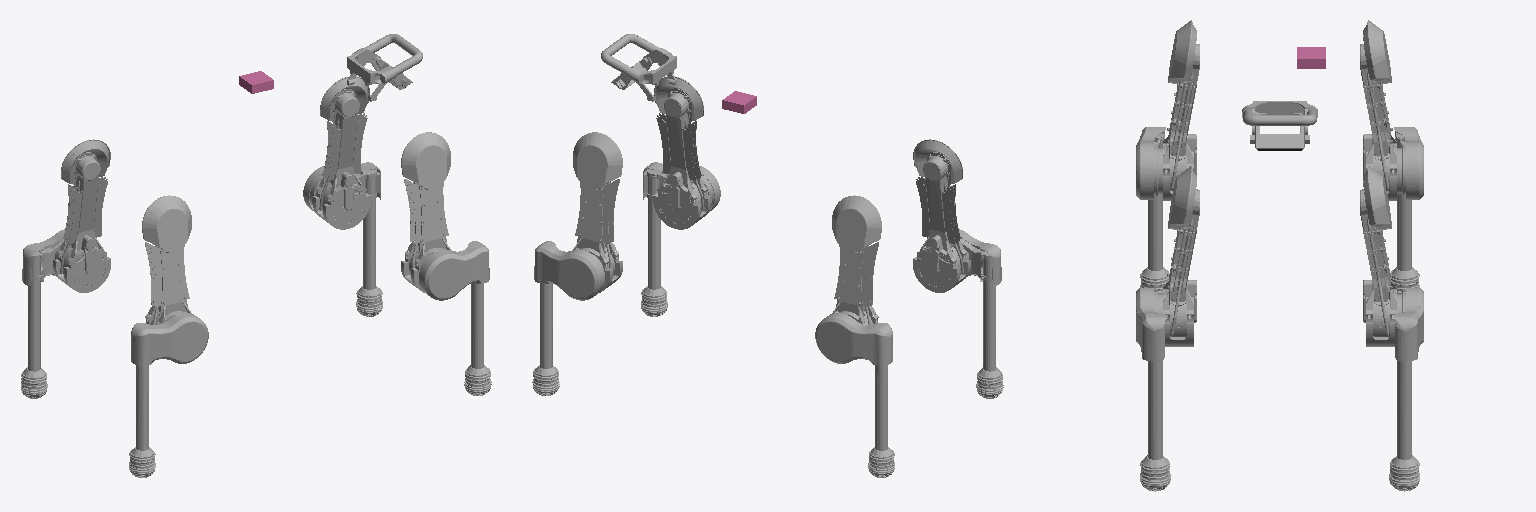
URDF robot description (anymal):
<?xml version="1.0" ?>
<robot name="anymal">

  <!--
    Material colors
  -->

  <!-- Basic colors -->
  <material name="black">
    <color rgba="0.0 0.0 0.0 1.0"/>
  </material>
  <material name="blue">
    <color rgba="0.0 0.0 0.8 1.0"/>
  </material>
  <material name="green">
    <color rgba="0.0 0.8 0.0 1.0"/>
  </material>
  <material name="grey">
    <color rgba="0.2 0.2 0.2 1.0"/>
  </material>
  <material name="light_grey">
    <color rgba="0.4 0.4 0.4 1.0"/>
  </material>
  <material name="red">
    <color rgba="0.8 0.0 0.0 1.0"/>
  </material>
  <material name="white">
    <color rgba="1.0 1.0 1.0 1.0"/>
  </material>

  <!-- Material for the visual primitives -->
  <material name="anymal_material">
    <color rgba="0.7 0.7 0.7 1.0"/>
  </material>

  <!--
    Base
  -->

  <!-- Base link -->
  <link name="base">
    <visual>
      <origin rpy="0 0 0" xyz="0 0 0"/>
      <geometry>
        <mesh filename="../meshes/anymal_base.dae" scale="0.001 0.001 0.001"/>
      </geometry>
      <material name="anymal_material"/>
    </visual>
    <!-- Main Body -->
    <collision>
      <origin rpy="0 0 0" xyz="0 0 0.08"/>
      <geometry>
        <box size="0.531 0.27 0.24"/>
      </geometry>
    </collision>
  </link>
  <!-- Fixed joint to add dummy inertia link -->
  <joint name="base_to_base_inertia" type="fixed">
    <parent link="base"/>
    <child link="base_inertia"/>
    <origin rpy="0 0 0" xyz="0 0 0"/>
  </joint>
  <!-- Dummy inertia link, because KDL cannot have inertia on the base link -->
  <link name="base_inertia">
    <inertial>
      <origin rpy="0 0 0" xyz="-0.001960558279 -0.001413217745 0.050207125344"/>
      <mass value="16.793507758"/>
      <inertia ixx="0.217391101503" ixy="-0.00132873239126" ixz="-0.00228200226173" iyy="0.639432546734" iyz="-0.00138078263145" izz="0.62414077654"/>
    </inertial>
  </link>

  <!--
    Left-Fore leg
  -->

  <!-- Thigh link -->
  <link name="LF_HIP">
    <visual>
      <origin rpy="0 0 0.0" xyz="0 0 0"/>
      <geometry>
        <mesh filename="../meshes/anymal_hip_l.dae" scale="0.001 0.001 0.001"/>
      </geometry>
      <material name="anymal_material"/>
    </visual>
    <inertial>
      <origin rpy="0 0 0" xyz="0.064516258147 -0.003787101702 -0.000152184388"/>
      <mass value="1.42462064"/>
      <inertia ixx="0.00243023349564" ixy="-1.53023971e-05" ixz="-2.1819095354e-05" iyy="0.00230257239103" iyz="2.6473021273e-05" izz="0.0019806759227"/>
    </inertial>
  </link>
  <!-- Hip joint -->
  <joint name="LF_HAA" type="revolute">
    <parent link="base"/>
    <child link="LF_HIP"/>
    <origin xyz="0.277 0.116 0.0"/>
    <axis xyz="1 0 0"/>
    <limit effort="80" lower="-6.28" upper="6.28" velocity="15"/>
    <dynamics damping="0.0" friction="0.0"/>
  </joint>

  <!-- Thigh link -->
  <link name="LF_THIGH">
    <visual>
      <origin rpy="0 0 0.0" xyz="0 0 0"/>
      <geometry>
        <mesh filename="../meshes/anymal_thigh_l.dae" scale="0.001 0.001 0.001"/>
      </geometry>
      <material name="anymal_material"/>
    </visual>
    <inertial>
      <origin rpy="0 0 0" xyz="-0.003897968082 0.054226618537 -0.214583373795"/>
      <mass value="1.634976467"/>
      <inertia ixx="0.0120367944369" ixy="6.762065206e-05" ixz="0.000287806340448" iyy="0.0120643637939" iyz="-0.00140610131218" izz="0.00249422574881"/>
    </inertial>
  </link>
  <!-- Thigh joint -->
  <joint name="LF_HFE" type="revolute">
    <parent link="LF_HIP"/>
    <child link="LF_THIGH"/>
    <origin xyz="0.0635                    0.041                    0.0"/>
    <axis xyz="0 1 0"/>
    <limit effort="80" lower="-6.28" upper="6.28" velocity="15"/>
    <dynamics damping="0.0" friction="0.0"/>
  </joint>

  <!-- Shank link -->
  <link name="LF_SHANK">
    <visual>
      <origin rpy="0 0 0.0" xyz="0 0 0"/>
      <geometry>
        <mesh filename="../meshes/anymal_shank_l.dae" scale="0.001 0.001 0.001"/>
      </geometry>
      <material name="anymal_material"/>
    </visual>
    <inertial>
      <origin rpy="0 0 0" xyz="0.030816858139 -0.004617229294 0.000893125713"/>
      <mass value="0.207204302"/>
      <inertia ixx="0.0002104880248" ixy="-5.6750980345e-05" ixz="1.0127699391e-05" iyy="0.000676270210023" iyz="-8.22869024e-07" izz="0.000545032674924"/>
    </inertial>
  </link>
  <!-- Shank joint -->
  <joint name="LF_KFE" type="revolute">
    <parent link="LF_THIGH"/>
    <child link="LF_SHANK"/>
    <origin xyz="0.0 0.109 -0.25"/>
    <axis xyz="0 1 0"/>
    <limit effort="80" lower="-6.28" upper="6.28" velocity="15"/>
    <dynamics damping="0.0" friction="0.0"/>
  </joint>
  <!-- Shank to Adapter joint -->
  <joint name="LF_SHANK_TO_ADAPTER" type="fixed">
    <parent link="LF_SHANK"/>
    <child link="LF_ADAPTER"/>
    <origin rpy="0.0 0.0 0.0" xyz="0.1 -0.02 0.0"/>
  </joint>

  <!-- Adapter link -->
  <link name="LF_ADAPTER">
    <visual>
      <origin rpy="0 0 0.0" xyz="0 0 0.032"/>
      <geometry>
        <mesh filename="../meshes/anymal_foot.dae" scale="0.001 0.001 0.001"/>
      </geometry>
      <material name="anymal_material"/>
    </visual>
    <inertial>
      <origin rpy="0 0 0" xyz="-8.66e-10 -1.472e-09 -0.244345749188"/>
      <mass value="0.140170767"/>
      <inertia ixx="0.00159938741862" ixy="-9.32e-13" ixz="1.039e-11" iyy="0.00159938741932" iyz="1.7563e-11" izz="5.4423177329e-05"/>
    </inertial>
  </link>
  <!-- Adapter to Foot joint -->
  <joint name="LF_ADAPTER_TO_FOOT" type="fixed">
    <parent link="LF_ADAPTER"/>
    <child link="LF_FOOT"/>
    <origin rpy="0.0 0.0 0.0" xyz="0.0 0.0 -0.32125"/>
  </joint>

  <!-- Foot link -->
  <link name="LF_FOOT">
    <collision>
      <origin xyz="0 0 0.02325"/>
      <geometry>
        <sphere radius="0.031"/>
      </geometry>
    </collision>
  </link>

  <!--
    Right-Fore leg
  -->

  <!-- Hip link -->
  <link name="RF_HIP">
    <visual>
      <origin rpy="0 0 0.0" xyz="0 0 0"/>
      <geometry>
        <mesh filename="../meshes/anymal_hip_r.dae" scale="0.001 0.001 0.001"/>
      </geometry>
      <material name="anymal_material"/>
    </visual>
    <inertial>
      <origin rpy="0 0 0" xyz="0.064516258147 0.003787101702 -0.000152184388"/>
      <mass value="1.42462064"/>
      <inertia ixx="0.00243023349564" ixy="1.53023971e-05" ixz="-2.1819095354e-05" iyy="0.00230257239103" iyz="-2.6473021273e-05" izz="0.0019806759227"/>
    </inertial>
  </link>
  <!-- Hip joint -->
  <joint name="RF_HAA" type="revolute">
    <parent link="base"/>
    <child link="RF_HIP"/>
    <origin xyz="0.277 -0.116 0.0"/>
    <axis xyz="1 0 0"/>
    <limit effort="80" lower="-6.28" upper="6.28" velocity="15"/>
    <dynamics damping="0.0" friction="0.0"/>
  </joint>

  <!-- Thigh link -->
  <link name="RF_THIGH">
    <visual>
      <origin rpy="0 0 0.0" xyz="0 0 0"/>
      <geometry>
        <mesh filename="../meshes/anymal_thigh_r.dae" scale="0.001 0.001 0.001"/>
      </geometry>
      <material name="anymal_material"/>
    </visual>
    <inertial>
      <origin rpy="0 0 0" xyz="-0.003897968082 -0.054226618537 -0.214583373795"/>
      <mass value="1.634976467"/>
      <inertia ixx="0.0120367944369" ixy="-6.762065206e-05" ixz="0.000287806340448" iyy="0.0120643637939" iyz="0.00140610131218" izz="0.00249422574881"/>
    </inertial>
  </link>
  <!-- Thigh joint -->
  <joint name="RF_HFE" type="revolute">
    <parent link="RF_HIP"/>
    <child link="RF_THIGH"/>
    <origin xyz="0.0635                    -0.041                    0.0"/>
    <axis xyz="0 1 0"/>
    <limit effort="80" lower="-6.28" upper="6.28" velocity="15"/>
    <dynamics damping="0.0" friction="0.0"/>
  </joint>

  <!-- Shank link -->
  <link name="RF_SHANK">
    <visual>
      <origin rpy="0 0 0.0" xyz="0 0 0"/>
      <geometry>
        <mesh filename="../meshes/anymal_shank_r.dae" scale="0.001 0.001 0.001"/>
      </geometry>
      <material name="anymal_material"/>
    </visual>
    <inertial>
      <origin rpy="0 0 0" xyz="0.030816858139 0.004617229294 0.000893125713"/>
      <mass value="0.207204302"/>
      <inertia ixx="0.0002104880248" ixy="5.6750980345e-05" ixz="1.0127699391e-05" iyy="0.000676270210023" iyz="8.22869024e-07" izz="0.000545032674924"/>
    </inertial>
  </link>
  <!-- Shank joint -->
  <joint name="RF_KFE" type="revolute">
    <parent link="RF_THIGH"/>
    <child link="RF_SHANK"/>
    <origin xyz="0.0 -0.109 -0.25"/>
    <axis xyz="0 1 0"/>
    <limit effort="80" lower="-6.28" upper="6.28" velocity="15"/>
    <dynamics damping="0.0" friction="0.0"/>
  </joint>
  <!-- Shank to Adapter joint -->
  <joint name="RF_SHANK_TO_ADAPTER" type="fixed">
    <parent link="RF_SHANK"/>
    <child link="RF_ADAPTER"/>
    <origin rpy="-0.0 0.0 -0.0" xyz="0.1 0.02 0.0"/>
  </joint>

  <!-- Adapter link -->
  <link name="RF_ADAPTER">
    <visual>
      <origin rpy="0 0 0.0" xyz="0 0 0.032"/>
      <geometry>
        <mesh filename="../meshes/anymal_foot.dae" scale="0.001 0.001 0.001"/>
      </geometry>
      <material name="anymal_material"/>
    </visual>
    <inertial>
      <origin rpy="0 0 0" xyz="-8.66e-10 -1.472e-09 -0.244345749188"/>
      <mass value="0.140170767"/>
      <inertia ixx="0.00159938741862" ixy="-9.32e-13" ixz="1.039e-11" iyy="0.00159938741932" iyz="1.7563e-11" izz="5.4423177329e-05"/>
    </inertial>
  </link>
  <!-- Adapter to Foot joint -->
  <joint name="RF_ADAPTER_TO_FOOT" type="fixed">
    <parent link="RF_ADAPTER"/>
    <child link="RF_FOOT"/>
    <origin rpy="-0.0 0.0 -0.0" xyz="0.0 -0.0 -0.32125"/>
  </joint>

  <!-- Foot link -->
  <link name="RF_FOOT">
    <collision>
      <origin xyz="0 0 0.02325"/>
      <geometry>
        <sphere radius="0.031"/>
      </geometry>
    </collision>
  </link>


  <!--
    Left-Hind leg
  -->

  <!-- Hip link -->
  <link name="LH_HIP">
    <visual>
      <origin rpy="0 0 -3.14159265359" xyz="0 0 0"/>
      <geometry>
        <mesh filename="../meshes/anymal_hip_r.dae" scale="0.001 0.001 0.001"/>
      </geometry>
      <material name="anymal_material"/>
    </visual>
    <inertial>
      <origin rpy="0 0 0" xyz="-0.064516258147 -0.003787101702 -0.000152184388"/>
      <mass value="1.42462064"/>
      <inertia ixx="0.00243023349564" ixy="1.53023971e-05" ixz="2.1819095354e-05" iyy="0.00230257239103" iyz="2.6473021273e-05" izz="0.0019806759227"/>
    </inertial>
  </link>
  <!-- Hip joint -->
  <joint name="LH_HAA" type="revolute">
    <parent link="base"/>
    <child link="LH_HIP"/>
    <origin xyz="-0.277 0.116 0.0"/>
    <axis xyz="1 0 0"/>
    <limit effort="80" lower="-6.28" upper="6.28" velocity="15"/>
    <dynamics damping="0.0" friction="0.0"/>
  </joint>

  <!-- Thigh link -->
  <link name="LH_THIGH">
    <visual>
      <origin rpy="0 0 -3.14159265359" xyz="0 0 0"/>
      <geometry>
        <mesh filename="../meshes/anymal_thigh_r.dae" scale="0.001 0.001 0.001"/>
      </geometry>
      <material name="anymal_material"/>
    </visual>
    <inertial>
      <origin rpy="0 0 0" xyz="0.003897968082 0.054226618537 -0.214583373795"/>
      <mass value="1.634976467"/>
      <inertia ixx="0.0120367944369" ixy="-6.762065206e-05" ixz="-0.000287806340448" iyy="0.0120643637939" iyz="-0.00140610131218" izz="0.00249422574881"/>
    </inertial>
  </link>
  <!-- Thigh joint -->
  <joint name="LH_HFE" type="revolute">
    <parent link="LH_HIP"/>
    <child link="LH_THIGH"/>
    <origin xyz="-0.0635                    0.041                    0.0"/>
    <axis xyz="0 1 0"/>
    <limit effort="80" lower="-6.28" upper="6.28" velocity="15"/>
    <dynamics damping="0.0" friction="0.0"/>
  </joint>

  <!-- Shank link -->
  <link name="LH_SHANK">
    <visual>
      <origin rpy="0 0 -3.14159265359" xyz="0 0 0"/>
      <geometry>
        <mesh filename="../meshes/anymal_shank_r.dae" scale="0.001 0.001 0.001"/>
      </geometry>
      <material name="anymal_material"/>
    </visual>
    <inertial>
      <origin rpy="0 0 0" xyz="-0.030816858139 -0.004617229294 0.000893125713"/>
      <mass value="0.207204302"/>
      <inertia ixx="0.0002104880248" ixy="5.6750980345e-05" ixz="-1.0127699391e-05" iyy="0.000676270210023" iyz="-8.22869024e-07" izz="0.000545032674924"/>
    </inertial>
  </link>
  <!-- Shank joint -->
  <joint name="LH_KFE" type="revolute">
    <parent link="LH_THIGH"/>
    <child link="LH_SHANK"/>
    <origin xyz="-0.0 0.109 -0.25"/>
    <axis xyz="0 1 0"/>
    <limit effort="80" lower="-6.28" upper="6.28" velocity="15"/>
    <dynamics damping="0.0" friction="0.0"/>
  </joint>
  <!-- Shank to Adapter joint -->
  <joint name="LH_SHANK_TO_ADAPTER" type="fixed">
    <parent link="LH_SHANK"/>
    <child link="LH_ADAPTER"/>
    <origin rpy="0.0 -0.0 -0.0" xyz="-0.1 -0.02 0.0"/>
  </joint>

  <!-- Adapter link -->
  <link name="LH_ADAPTER">
    <visual>
      <origin rpy="0 0 -3.14159265359" xyz="0 0 0.032"/>
      <geometry>
        <mesh filename="../meshes/anymal_foot.dae" scale="0.001 0.001 0.001"/>
      </geometry>
      <material name="anymal_material"/>
    </visual>
    <inertial>
      <origin rpy="0 0 0" xyz="-8.66e-10 -1.472e-09 -0.244345749188"/>
      <mass value="0.140170767"/>
      <inertia ixx="0.00159938741862" ixy="-9.32e-13" ixz="1.039e-11" iyy="0.00159938741932" iyz="1.7563e-11" izz="5.4423177329e-05"/>
    </inertial>
  </link>
  <!-- Adapter to Foot joint -->
  <joint name="LH_ADAPTER_TO_FOOT" type="fixed">
    <parent link="LH_ADAPTER"/>
    <child link="LH_FOOT"/>
    <origin rpy="0.0 -0.0 -0.0" xyz="-0.0 0.0 -0.32125"/>
  </joint>

  <!-- Foot link -->
  <link name="LH_FOOT">
    <collision>
      <origin xyz="0 0 0.02325"/>
      <geometry>
        <sphere radius="0.031"/>
      </geometry>
    </collision>
  </link>

  <!--
    Right-Hind leg
  -->

  <!-- Hip link -->
  <link name="RH_HIP">
    <visual>
      <origin rpy="0 0 -3.14159265359" xyz="0 0 0"/>
      <geometry>
        <mesh filename="../meshes/anymal_hip_l.dae" scale="0.001 0.001 0.001"/>
      </geometry>
      <material name="anymal_material"/>
    </visual>
    <inertial>
      <origin rpy="0 0 0" xyz="-0.064516258147 0.003787101702 -0.000152184388"/>
      <mass value="1.42462064"/>
      <inertia ixx="0.00243023349564" ixy="-1.53023971e-05" ixz="2.1819095354e-05" iyy="0.00230257239103" iyz="-2.6473021273e-05" izz="0.0019806759227"/>
    </inertial>
  </link>
  <!-- Hip joint -->
  <joint name="RH_HAA" type="revolute">
    <parent link="base"/>
    <child link="RH_HIP"/>
    <origin xyz="-0.277 -0.116 0.0"/>
    <axis xyz="1 0 0"/>
    <limit effort="80" lower="-6.28" upper="6.28" velocity="15"/>
    <dynamics damping="0.0" friction="0.0"/>
  </joint>

  <!-- Thigh link -->
  <link name="RH_THIGH">
    <visual>
      <origin rpy="0 0 -3.14159265359" xyz="0 0 0"/>
      <geometry>
        <mesh filename="../meshes/anymal_thigh_l.dae" scale="0.001 0.001 0.001"/>
      </geometry>
      <material name="anymal_material"/>
    </visual>
    <inertial>
      <origin rpy="0 0 0" xyz="0.003897968082 -0.054226618537 -0.214583373795"/>
      <mass value="1.634976467"/>
      <inertia ixx="0.0120367944369" ixy="6.762065206e-05" ixz="-0.000287806340448" iyy="0.0120643637939" iyz="0.00140610131218" izz="0.00249422574881"/>
    </inertial>
  </link>
  <!-- Thigh joint -->
  <joint name="RH_HFE" type="revolute">
    <parent link="RH_HIP"/>
    <child link="RH_THIGH"/>
    <origin xyz="-0.0635                    -0.041                    0.0"/>
    <axis xyz="0 1 0"/>
    <limit effort="80" lower="-6.28" upper="6.28" velocity="15"/>
    <dynamics damping="0.0" friction="0.0"/>
  </joint>

  <!-- Shank link -->
  <link name="RH_SHANK">
    <visual>
      <origin rpy="0 0 -3.14159265359" xyz="0 0 0"/>
      <geometry>
        <mesh filename="../meshes/anymal_shank_l.dae" scale="0.001 0.001 0.001"/>
      </geometry>
      <material name="anymal_material"/>
    </visual>
    <inertial>
      <origin rpy="0 0 0" xyz="-0.030816858139 0.004617229294 0.000893125713"/>
      <mass value="0.207204302"/>
      <inertia ixx="0.0002104880248" ixy="-5.6750980345e-05" ixz="-1.0127699391e-05" iyy="0.000676270210023" iyz="8.22869024e-07" izz="0.000545032674924"/>
    </inertial>
  </link>
  <!-- Shank joint -->
  <joint name="RH_KFE" type="revolute">
    <parent link="RH_THIGH"/>
    <child link="RH_SHANK"/>
    <origin xyz="-0.0 -0.109 -0.25"/>
    <axis xyz="0 1 0"/>
    <limit effort="80" lower="-6.28" upper="6.28" velocity="15"/>
    <dynamics damping="0.0" friction="0.0"/>
  </joint>
  <!-- Shank to Adapter joint -->
  <joint name="RH_SHANK_TO_ADAPTER" type="fixed">
    <parent link="RH_SHANK"/>
    <child link="RH_ADAPTER"/>
    <origin rpy="-0.0 -0.0 0.0" xyz="-0.1 0.02 0.0"/>
  </joint>

  <!-- Adapter link -->
  <link name="RH_ADAPTER">
    <visual>
      <origin rpy="0 0 -3.14159265359" xyz="0 0 0.032"/>
      <geometry>
        <mesh filename="../meshes/anymal_foot.dae" scale="0.001 0.001 0.001"/>
      </geometry>
      <material name="anymal_material"/>
    </visual>
    <inertial>
      <origin rpy="0 0 0" xyz="-8.66e-10 -1.472e-09 -0.244345749188"/>
      <mass value="0.140170767"/>
      <inertia ixx="0.00159938741862" ixy="-9.32e-13" ixz="1.039e-11" iyy="0.00159938741932" iyz="1.7563e-11" izz="5.4423177329e-05"/>
    </inertial>
  </link>
  <!-- Adapter to Foot joint -->
  <joint name="RH_ADAPTER_TO_FOOT" type="fixed">
    <parent link="RH_ADAPTER"/>
    <child link="RH_FOOT"/>
    <origin rpy="-0.0 -0.0 0.0" xyz="-0.0 -0.0 -0.32125"/>
  </joint>

  <!-- Foot link -->
  <link name="RH_FOOT">
    <collision>
      <origin xyz="0 0 0.02325"/>
      <geometry>
        <sphere radius="0.031"/>
      </geometry>
    </collision>
  </link>

  <!--
    MODULES
  -->

  <!-- Mount module axis aligned -->
  <link name="imu_link">
    <visual>
      <origin rpy="0 0 0" xyz="0 0 0.011"/>
      <geometry>
        <box size="0.058 0.058 0.022"/>
      </geometry>
      <material name="orange"/>
    </visual>
    <inertial>
      <mass value="0.05"/>
      <origin xyz="0 0 0"/>
      <inertia ixx="1.60333333333e-05" ixy="0.0" ixz="0.0" iyy="2.80333333333e-05" iyz="0.0" izz="1.60333333333e-05"/>
    </inertial>
  </link>
  <joint name="imu_joint" type="fixed">
    <parent link="base"/>
    <child link="imu_link"/>
    <origin rpy="0 3.14159265359 0" xyz="0.038 0.06245 0.1837"/>
  </joint>
  <!-- Module attachment -->
  <joint name="base_to_handle_mount_front_axis_aligned" type="fixed">
    <parent link="base"/>
    <child link="handle_mount_front"/>
    <origin rpy="0.0 0.0 0.0" xyz="0.2692 0.0 0.1569"/>
  </joint>

  <!-- Mount module axis aligned -->
  <link name="handle_mount_front">
    <visual>
      <origin rpy="0 0 0" xyz="0 0 0"/>
      <geometry>
        <mesh filename="../meshes/handle_mount_2.dae" scale=".001 .001 .001"/>
      </geometry>
      <material name="anymal_material"/>
    </visual>
    <inertial>
      <origin rpy="0 0 0" xyz="0 0 0"/>
      <mass value="0.001"/>
      <inertia ixx="0.00001" ixy="0.0" ixz="0.0" iyy="0.00001" iyz="0.0" izz="0.00001"/>
    </inertial>
  </link>
  <joint name="handle_mount_front_to_sensor_mount_axis_aligned" type="fixed">
    <parent link="handle_mount_front"/>
    <child link="handle_mount_front_sensor_mount_axis_aligned"/>
    <origin rpy="0 0 0" xyz="0.079 0.0 0.004724"/>
  </joint>
  <link name="handle_mount_front_sensor_mount_axis_aligned"/>

  <!-- Mount calibration joint -->
  <joint name="handle_mount_front_sensor_mount_axis_aligned_to_realsense_mount" type="fixed">
    <parent link="handle_mount_front_sensor_mount_axis_aligned"/>
    <child link="realsense_mount"/>
    <origin rpy="0.0 0.0 0.0" xyz="0.0 0.0 0.0"/>
  </joint>
  <!-- Mount link -->
  <link name="realsense_mount">
    <inertial>
      <origin rpy="0 0 0" xyz="0.054218447194                     -0.000000283793                      0.020065663731"/>
      <mass value="0.243898067"/>
      <inertia ixx="0.000779856566866" ixy="0.000000002160682" ixz="0.000147656791902" iyy="0.000570366165358" iyz="0.000000000478926" izz="0.001154870002255"/>
    </inertial>
  </link>
  <!-- Mount tilting joint -->
  <joint name="realsense_mount_to_realsense_mount_tilted" type="fixed">
    <parent link="realsense_mount"/>
    <child link="realsense_mount_tilted"/>
    <origin rpy="0.0 0.653170273937 0.0" xyz="0 0 0"/>
  </joint>

  <!-- Mount tilted link -->
  <link name="realsense_mount_tilted">
    <visual>
      <origin rpy="0 0 0" xyz="0 0 0"/>
      <geometry>
        <mesh filename="../meshes/anymal_realsense_mount_d435.dae" scale=".001 .001 .001"/>
      </geometry>
      <material name="anymal_material"/>
    </visual>
    <inertial>
      <origin rpy="0 0 0" xyz="0.013859179019                       -0.000000303238                       -0.005235135645"/>
      <mass value="0.015185133"/>
      <inertia ixx="0.000024367910497" ixy="0.000000000125897" ixz="0.000000298159431" iyy="0.000003910480547" iyz="0.000000000030411" izz="0.000025490557443"/>
    </inertial>
  </link>
  <!-- Camera joint -->
  <!-- Is located between the two back screw holes at ground level. -->
  <joint name="realsense_mount_tilted_to_realsense_d435_camera_axis_aligned" type="fixed">
    <parent link="realsense_mount_tilted"/>
    <child link="realsense_d435_camera_axis_aligned"/>
    <origin rpy="0 0 0" xyz="0.013 0.0 -0.02362"/>
  </joint>

  <!-- Camera axis aligned link -->
  <link name="realsense_d435_camera_axis_aligned"/>
  <!-- Camera calibration joint -->
  <joint name="realsense_d435_camera_axis_aligned_to_camera" type="fixed">
    <parent link="realsense_d435_camera_axis_aligned"/>
    <child link="realsense_d435_camera"/>
    <origin rpy="0.0 0.0 0.0" xyz="0.0 0.0 0.0"/>
  </joint>

  <!-- Camera link -->
  <link name="realsense_d435_camera">
    <visual>
      <origin rpy="0 0 0" xyz="0.0 0.0 0.0"/>
      <geometry>
        <mesh filename="../meshes/realsense_d435.dae" scale=".001 .001 .001"/>
      </geometry>
      <material name="grey"/>
    </visual>
    <inertial>
      <origin rpy="0 0 0" xyz="0.011936651145 -0.000092349919 0.012257404184"/>
      <mass value="0.072"/>
      <inertia ixx="0.000045514558965" ixy="0.000000051943899" ixz="0.00000016511560" iyy="0.000006466822747" iyz="-0.000000001668932" izz="0.000046225339262"/>
    </inertial>
  </link>
  <!-- Camera parent frame joint -->
  <!-- Frame lies on the left ir camera according to realsense2_camera urdf. -->
  <joint name="realsense_d435_camera_to_camera_parent" type="fixed">
    <parent link="realsense_d435_camera"/>
    <child link="realsense_d435_camera_parent"/>
    <origin rpy="0.0 0.0 0.0" xyz="0.02505 0.015 0.0125"/>
  </joint>

  <!-- Camera parent frame link -->
  <link name="realsense_d435_camera_parent"/>

</robot>

--- Facts derived from the render (not from the file) ---
3 views of the same robot in one strip: view 1: azimuth 30°, elevation 25°; view 2: azimuth 150°, elevation 25°; view 3: azimuth 270°, elevation 25° (orthographic).
Model anymal with 30 links and 29 joints (12 revolute, 17 fixed), rooted at base, posed all joints at 0.
Links seen in each view (by area): view 1: LH_THIGH, LF_THIGH, RF_THIGH, RH_THIGH, RH_SHANK, RF_SHANK, handle_mount_front, LH_ADAPTER, LF_ADAPTER, RF_ADAPTER, RH_ADAPTER, LH_SHANK (+2 smaller); view 2: RH_THIGH, RF_THIGH, LF_THIGH, LH_THIGH, LH_SHANK, LF_SHANK, handle_mount_front, RH_ADAPTER, RF_ADAPTER, LF_ADAPTER, LH_ADAPTER, RH_SHANK (+2 smaller); view 3: LF_THIGH, RF_THIGH, LH_THIGH, RH_THIGH, LF_ADAPTER, RF_ADAPTER, LF_SHANK, RF_SHANK, handle_mount_front, RH_ADAPTER, LH_ADAPTER, LH_SHANK (+3 smaller).
Boxes of the visible links, box(x1,y1,x2,y2) form: LH_THIGH: box(53, 139, 110, 292); LF_THIGH: box(312, 76, 370, 229); RF_THIGH: box(401, 132, 450, 292); RH_THIGH: box(142, 195, 191, 324); RH_SHANK: box(131, 313, 208, 365); RF_SHANK: box(419, 241, 489, 300); handle_mount_front: box(347, 34, 422, 101); LH_ADAPTER: box(21, 251, 47, 398); LF_ADAPTER: box(356, 169, 382, 316); RF_ADAPTER: box(464, 283, 491, 395); RH_ADAPTER: box(129, 365, 155, 477); LH_SHANK: box(22, 229, 64, 285); RH_THIGH: box(913, 139, 970, 292); RF_THIGH: box(653, 76, 711, 229); LF_THIGH: box(573, 132, 622, 292); LH_THIGH: box(832, 195, 881, 324); LH_SHANK: box(815, 313, 892, 365); LF_SHANK: box(534, 241, 604, 300); handle_mount_front: box(601, 34, 676, 101); RH_ADAPTER: box(976, 251, 1003, 398); RF_ADAPTER: box(641, 169, 667, 316); LF_ADAPTER: box(532, 283, 559, 395); LH_ADAPTER: box(868, 365, 894, 477); RH_SHANK: box(959, 229, 1001, 285); LF_THIGH: box(1360, 166, 1401, 346); RF_THIGH: box(1158, 166, 1199, 346); LH_THIGH: box(1360, 20, 1401, 200); RH_THIGH: box(1158, 20, 1199, 200); LF_ADAPTER: box(1389, 361, 1419, 491); RF_ADAPTER: box(1140, 361, 1170, 491); LF_SHANK: box(1394, 288, 1423, 361); RF_SHANK: box(1136, 288, 1165, 361); handle_mount_front: box(1242, 101, 1317, 134); RH_ADAPTER: box(1140, 133, 1169, 293); LH_ADAPTER: box(1390, 133, 1419, 293); LH_SHANK: box(1394, 127, 1423, 199).
Size in the robot's own frame: 0.9429 by 0.568 by 0.7937 metres.
15 mesh visuals loaded from 11 distinct referenced files (8 Collada DAE); not drawn: 1 (reference not matched to a file when rendering), 4 (file found but could not be loaded).